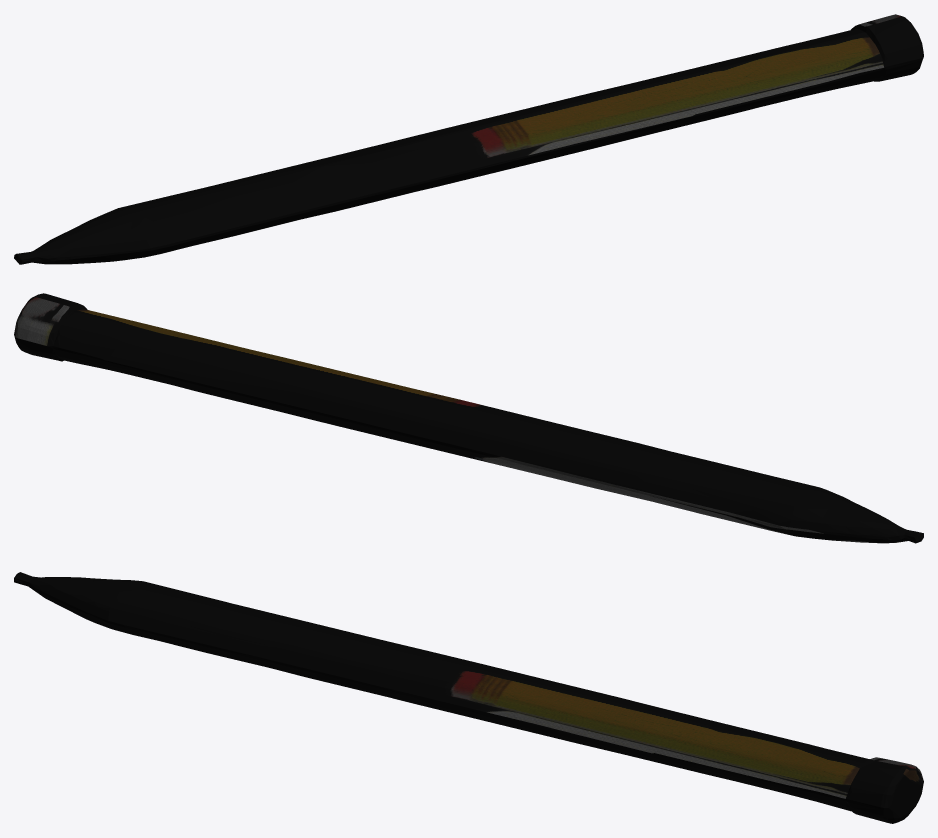
Rendered from sample.glb.
The picture shows the model from 3 angles, top to bottom: view 1: azimuth 30°, elevation 25°; view 2: azimuth 150°, elevation 25°; view 3: azimuth 330°, elevation 25°; orthographic projection.
Visible parts, largest first — view 1: world; view 2: world; view 3: world.
Part boxes in pixels (x1,y1,x2,y2): world: (14,14,923,264); world: (14,293,923,543); world: (14,572,923,823).
Size of the model in its own units: 1 by 0.0576 by 0.0828.
Materials: 1 (1 with a texture image).
